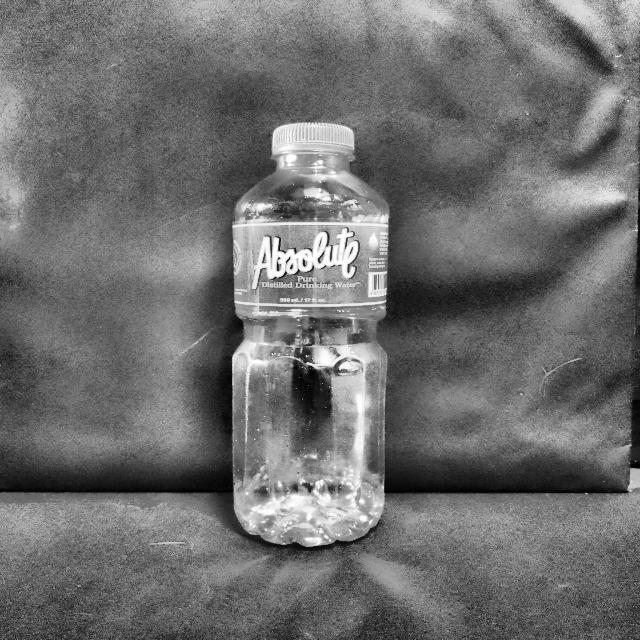Plastic-Bottle: (226, 118, 396, 551)
